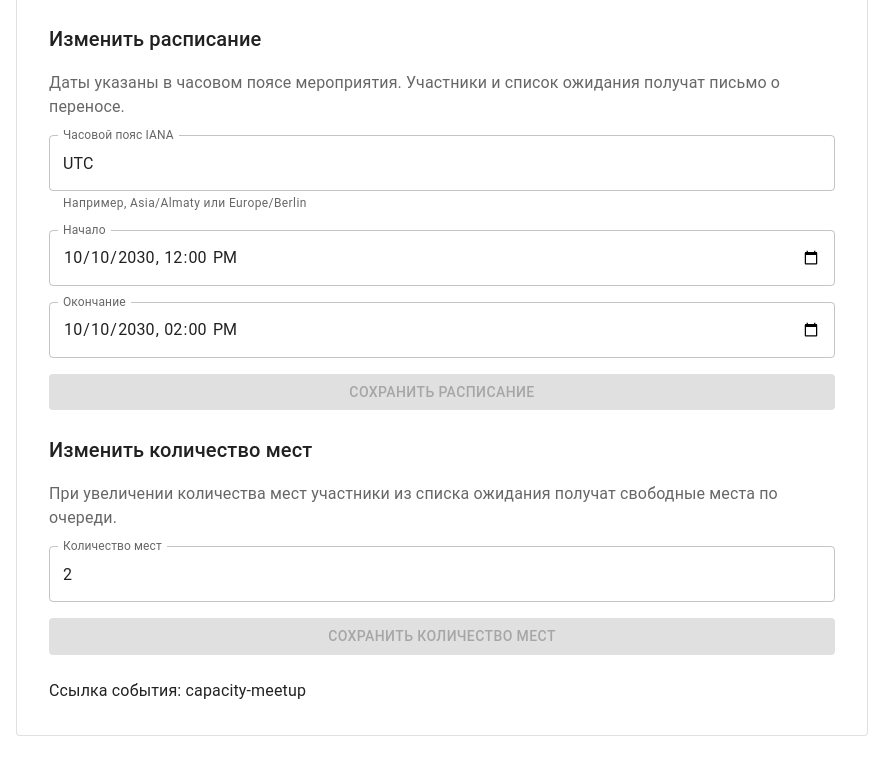
Scenario: keeps input and offers retry after CAPACITY_BELOW_CONFIRMED
(page scrolled)
Replace the text in the number field labelled "Количество мест" with "3": (442, 574) top-left (49, 546), bottom-right (835, 602)
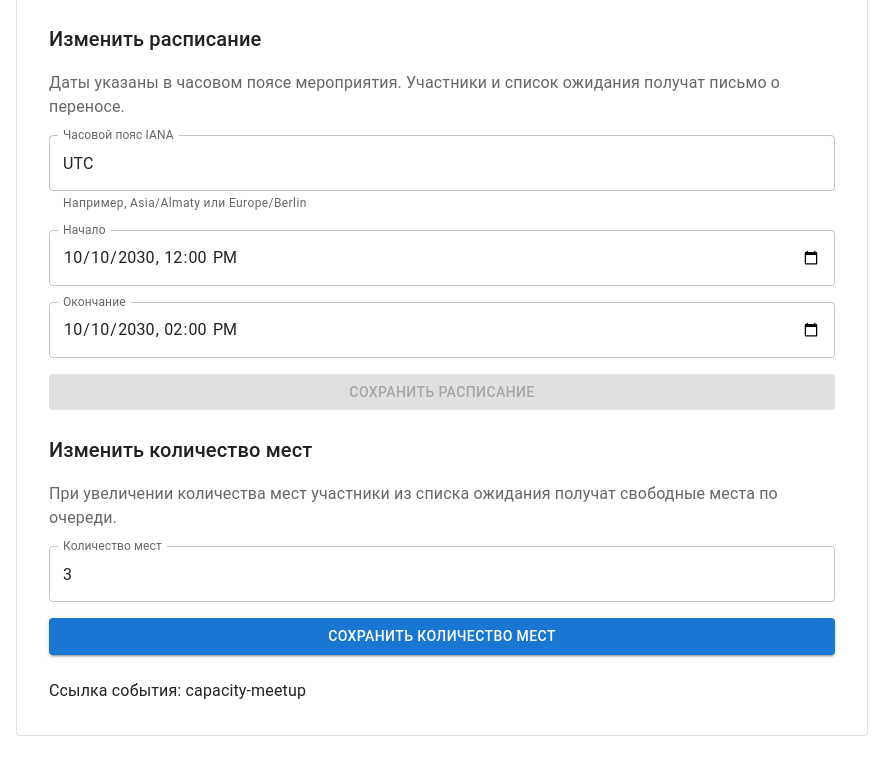
Click the button "Сохранить количество мест": (442, 637) top-left (49, 618), bottom-right (835, 655)
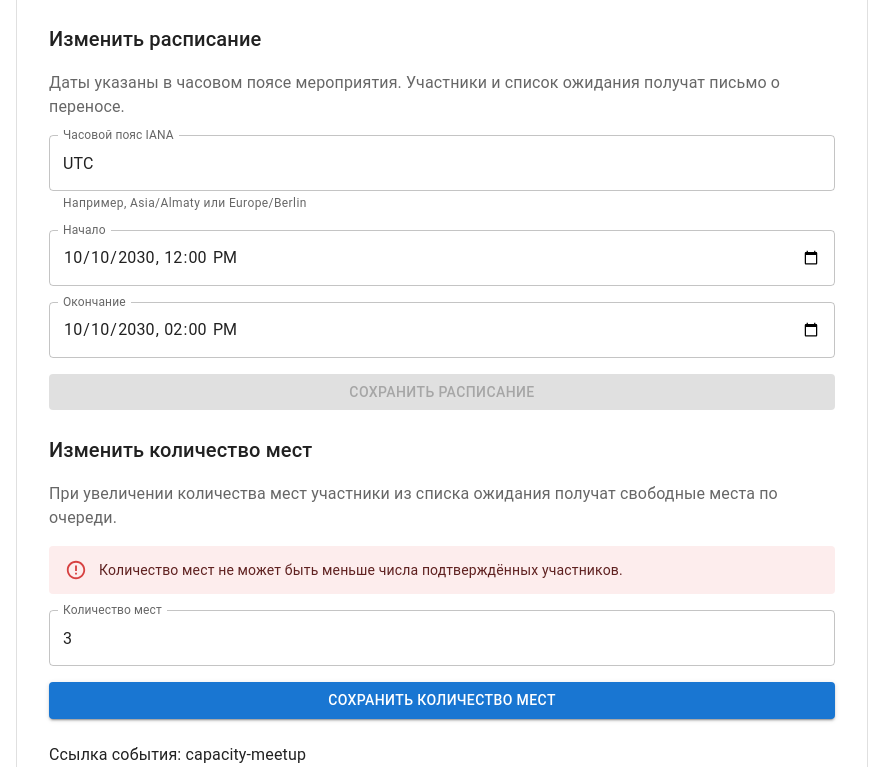
Now the button "Сохранить количество мест" is enabled
Now the message shows "подтверждённых участников", box top-left (99, 562), bottom-right (623, 578)
Click the button "Сохранить количество мест": (442, 701) top-left (49, 682), bottom-right (835, 719)
(page scrolled)
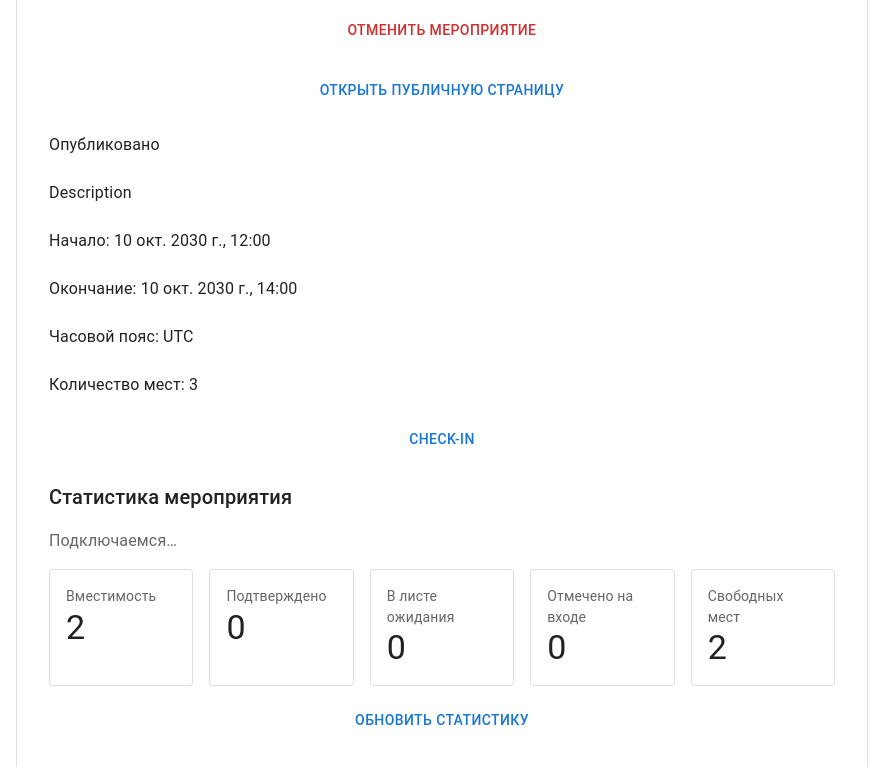
Now the text "Количество мест: 3" is shown, box top-left (49, 375), bottom-right (198, 394)
